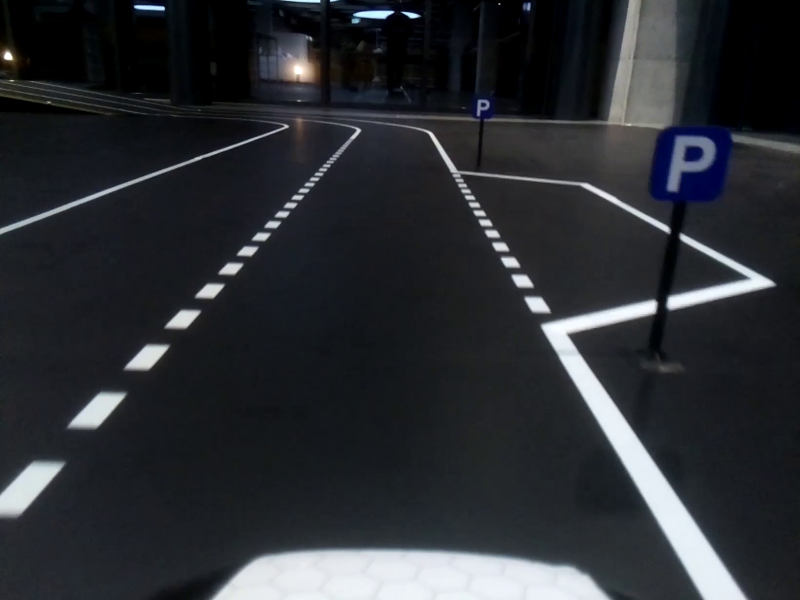park: (652, 131, 730, 204)
